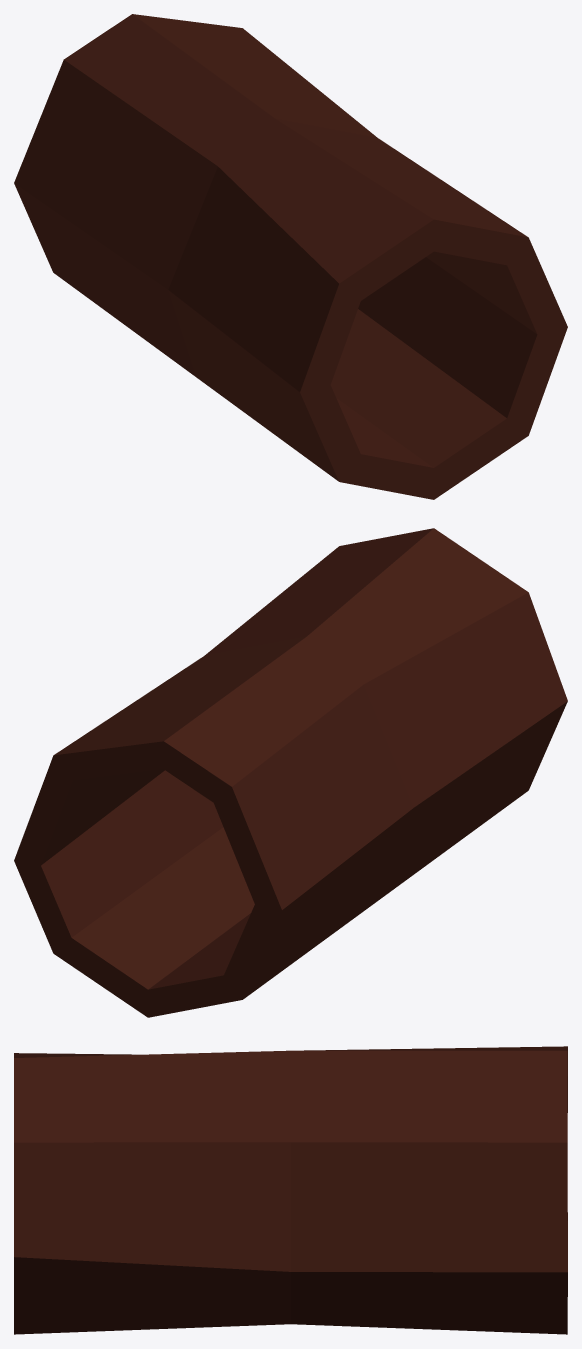
The model's file is log_5b.fbx.
3 renders of one model, top to bottom at view 1: azimuth 30°, elevation 25°; view 2: azimuth 150°, elevation 25°; view 3: azimuth 270°, elevation 25°, orthographic. The views are drawn at different scales.
Parts seen in each view (by area): view 1: log_5b; view 2: log_5b; view 3: log_5b.
Boxes of the visible parts, x1,y1,x2,y2 form: log_5b: [14, 14, 567, 499]; log_5b: [14, 528, 567, 1017]; log_5b: [14, 1046, 567, 1334].
Bounding box in the file's own units: 53.19 × 53.18 × 98.37.
